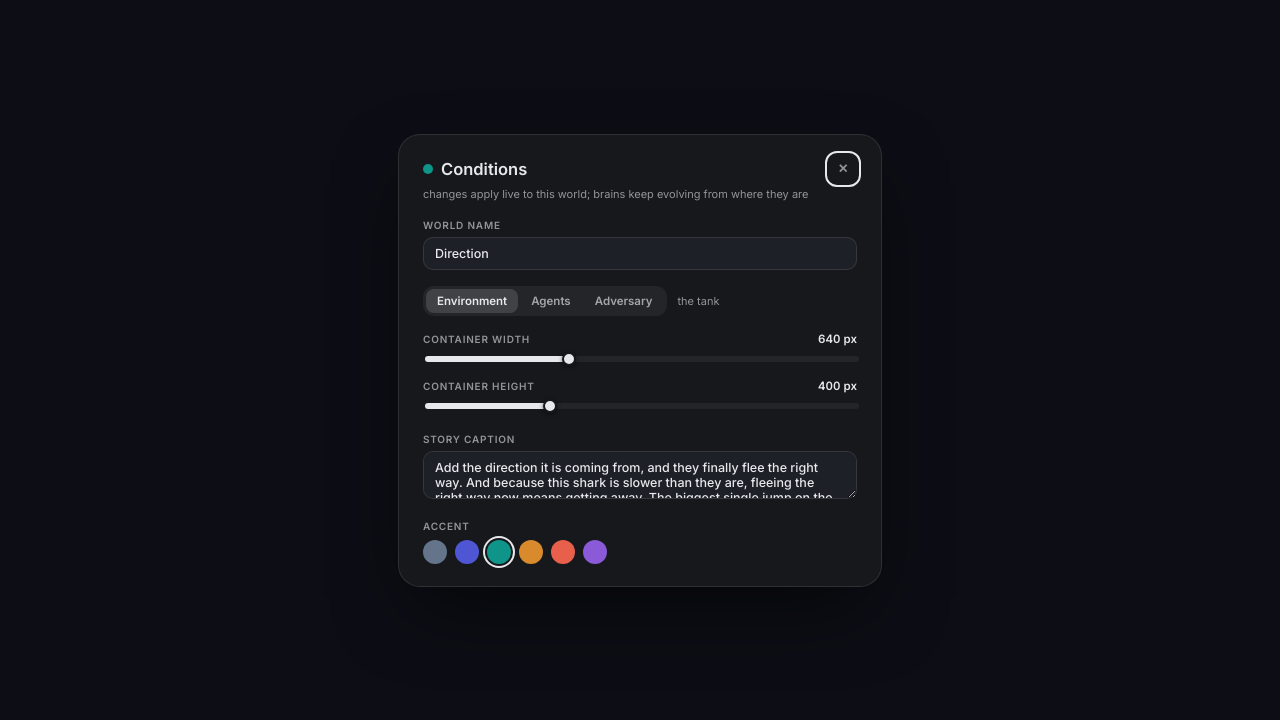
ConditionsModal › the hunger ramp is OFF, and its knobs stay hidden until it is switched on
Click the radio button labelled "Adversary": (624, 300) [584,288,664,312]
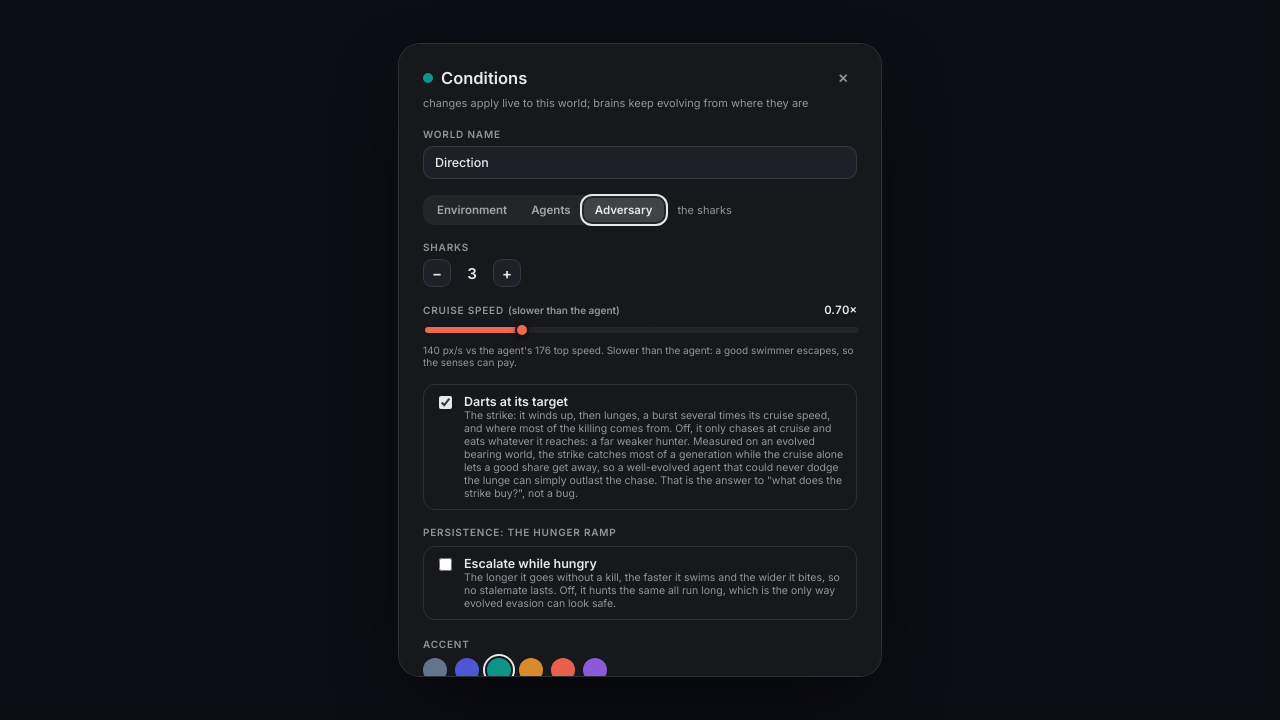
Click the checkbox labelled "Escalate while hungry": (446, 565) [439,558,452,571]
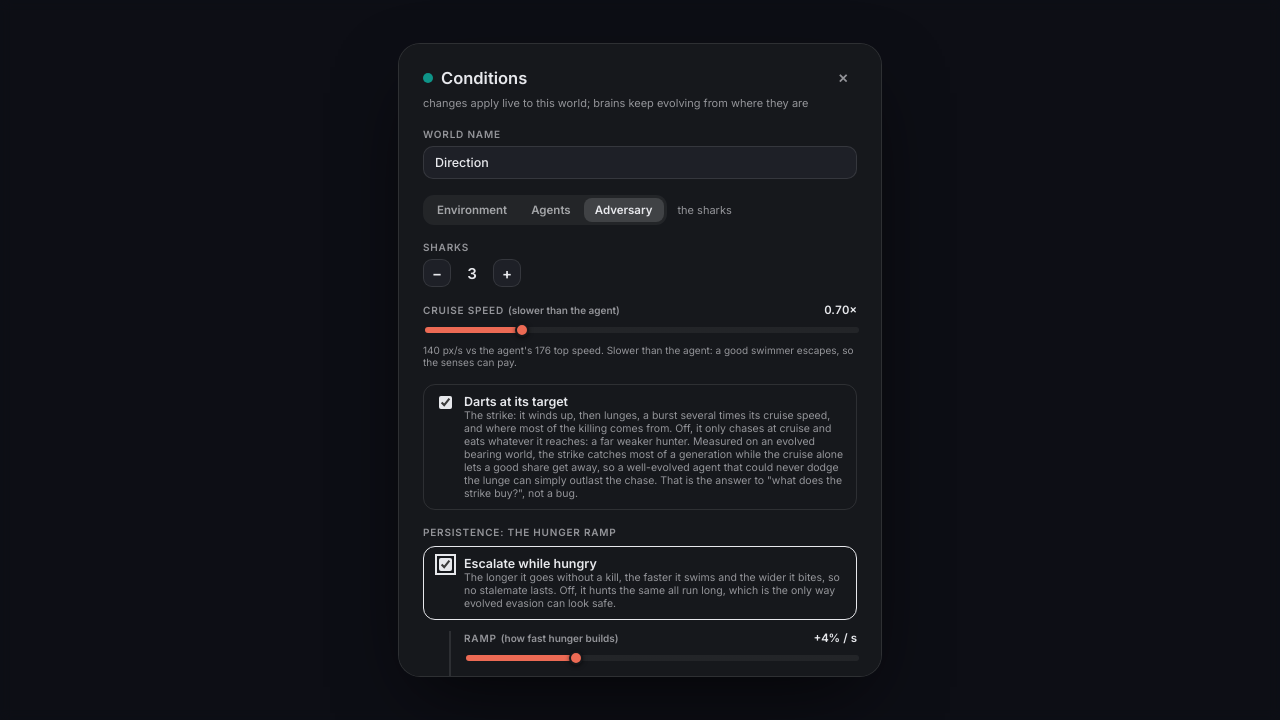
Now the slider labelled "Ramp(how fast hunger builds) +4% / s" is shown, box [466,649,859,667]
